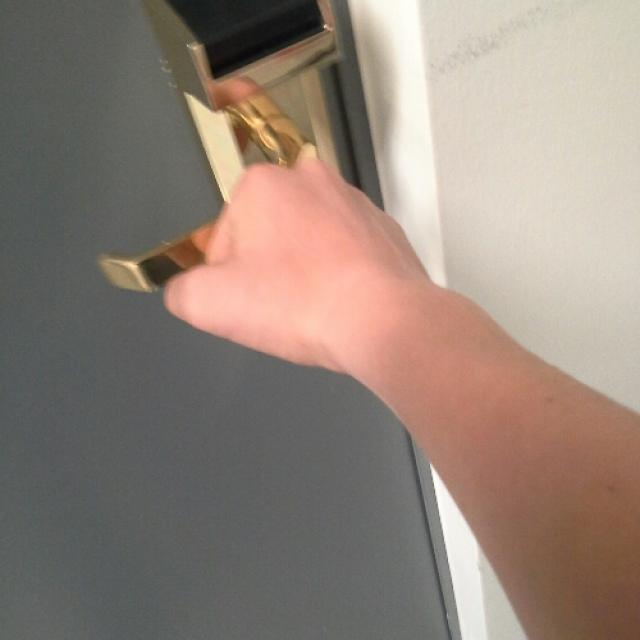rock: (167, 160, 413, 368)
